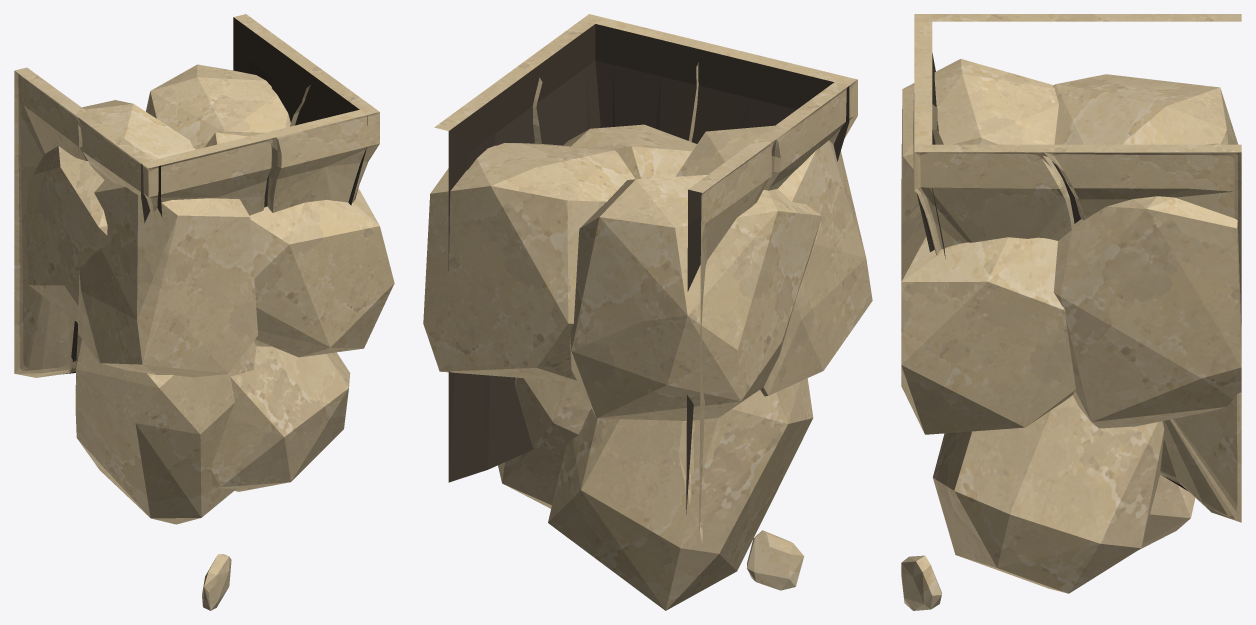
The model's file is ground_bottom_end_10.glb.
The picture shows the model from 3 angles, left to right: view 1: azimuth 30°, elevation 25°; view 2: azimuth 150°, elevation 25°; view 3: azimuth 270°, elevation 25°; orthographic projection. The views are drawn at different scales.
Parts seen in each view (by area): view 1: GroundBottomEnd10_Body; view 2: GroundBottomEnd10_Body; view 3: GroundBottomEnd10_Body.
Boxes of the visible parts, box(x1,y1,x2,y2) form: GroundBottomEnd10_Body: box(14, 14, 394, 610); GroundBottomEnd10_Body: box(423, 14, 872, 610); GroundBottomEnd10_Body: box(901, 14, 1241, 610).
Size of the model in its own units: 1.08 by 1.88 by 1.04.
Materials: 12 (11 with a texture image).
